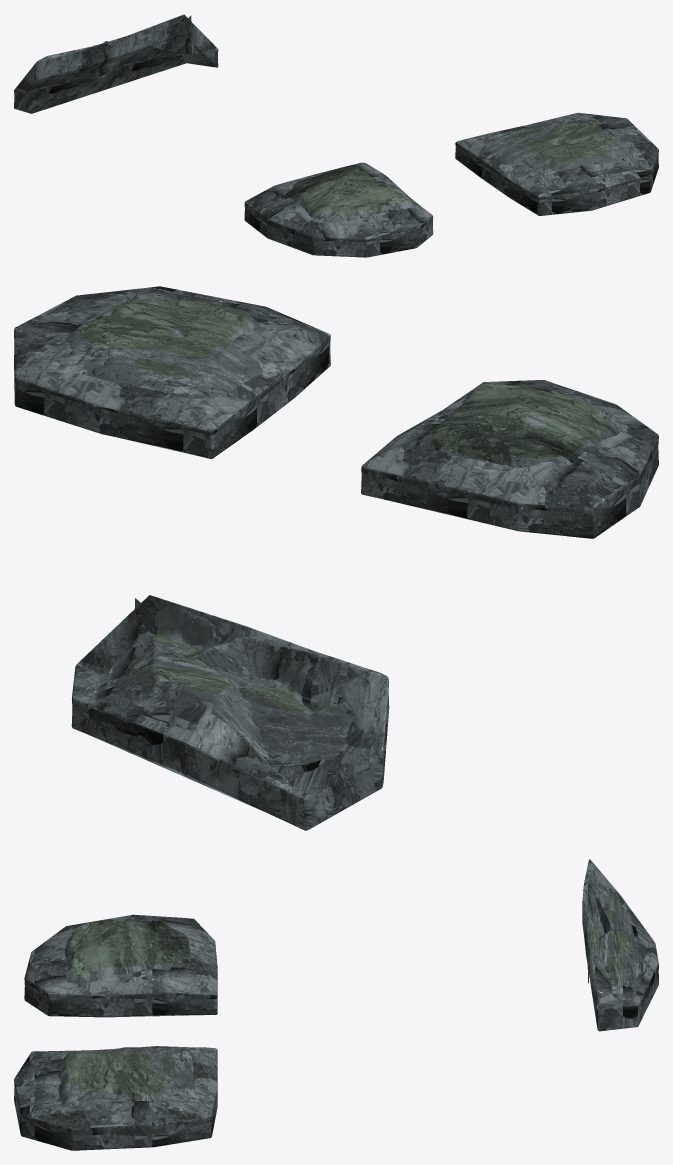
The model's file is h36-rock-environment.gltf.
3 renders of one model, top to bottom at view 1: azimuth 30°, elevation 25°; view 2: azimuth 150°, elevation 25°; view 3: azimuth 270°, elevation 25°, orthographic. The views are drawn at different scales.
Parts seen in each view (by area): view 1: H36_RockBody_EastVerge, H36_RockBody_RearLowRidge, H36_RockBody_WestVerge, H36_RockCap_EastVerge, H36_RockCap_WestVerge; view 2: H36_RockBody_RearLowRidge, H36_RockBody_EastVerge, H36_RockBody_WestVerge, H36_RockCap_RearLowRidge, H36_RockCap_EastVerge, H36_RockCap_WestVerge; view 3: H36_RockBody_EastVerge, H36_RockBody_WestVerge, H36_RockCap_EastVerge, H36_RockCap_WestVerge, H36_RockBody_RearLowRidge, H36_RockCap_RearLowRidge.
Boxes of the visible parts, bbox=[...] form: H36_RockBody_EastVerge: bbox=[455, 112, 658, 215]; H36_RockBody_RearLowRidge: bbox=[14, 14, 218, 113]; H36_RockBody_WestVerge: bbox=[244, 162, 433, 257]; H36_RockCap_EastVerge: bbox=[481, 118, 632, 171]; H36_RockCap_WestVerge: bbox=[284, 167, 416, 222]; H36_RockBody_RearLowRidge: bbox=[71, 595, 389, 830]; H36_RockBody_EastVerge: bbox=[14, 286, 330, 458]; H36_RockBody_WestVerge: bbox=[361, 380, 658, 538]; H36_RockCap_RearLowRidge: bbox=[114, 598, 353, 769]; H36_RockCap_EastVerge: bbox=[63, 292, 263, 399]; H36_RockCap_WestVerge: bbox=[429, 382, 620, 467]; H36_RockBody_EastVerge: bbox=[14, 1046, 217, 1150]; H36_RockBody_WestVerge: bbox=[24, 914, 217, 1017]; H36_RockCap_EastVerge: bbox=[57, 1047, 194, 1106]; H36_RockCap_WestVerge: bbox=[63, 920, 190, 988]; H36_RockBody_RearLowRidge: bbox=[582, 859, 658, 1031]; H36_RockCap_RearLowRidge: bbox=[585, 887, 638, 986].
Bounding box in the file's own units: 16.88 × 3.5 × 18.9.
5 materials, 5 textured.
